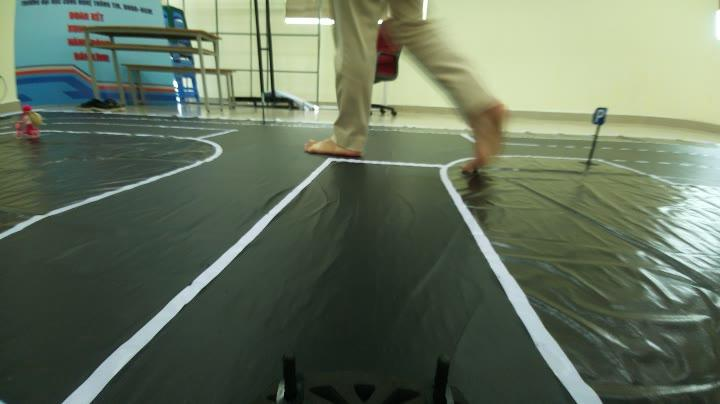parking: (588, 102, 611, 126)
